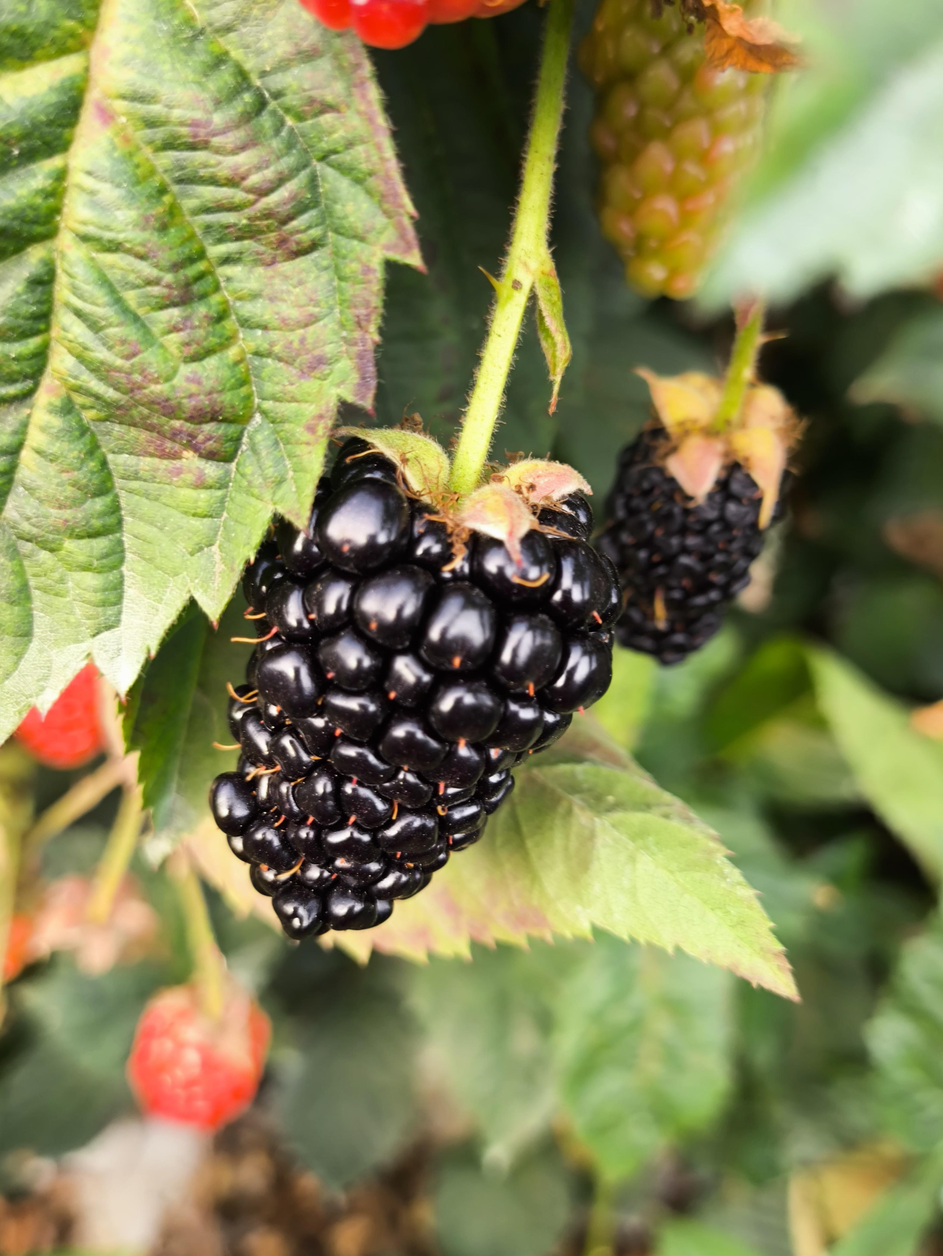maduro: (230, 450, 612, 943), (597, 427, 764, 665)
naranja: (126, 986, 268, 1130)
